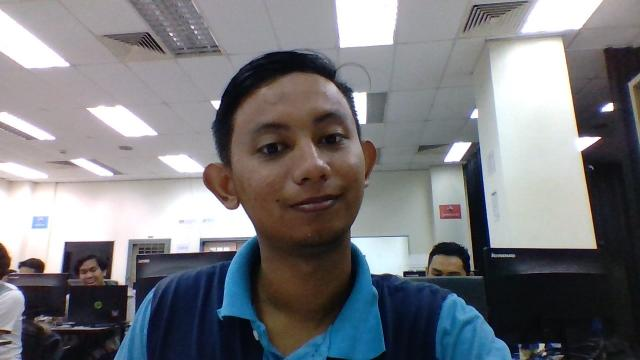senang: (229, 84, 363, 244)
